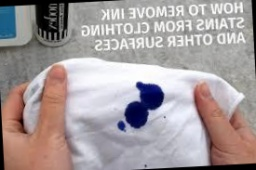ink: (137, 80, 164, 111), (124, 102, 148, 127), (118, 120, 124, 132)
